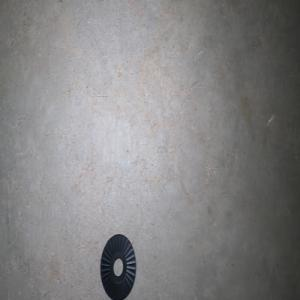Washer: (100, 233, 136, 300)
